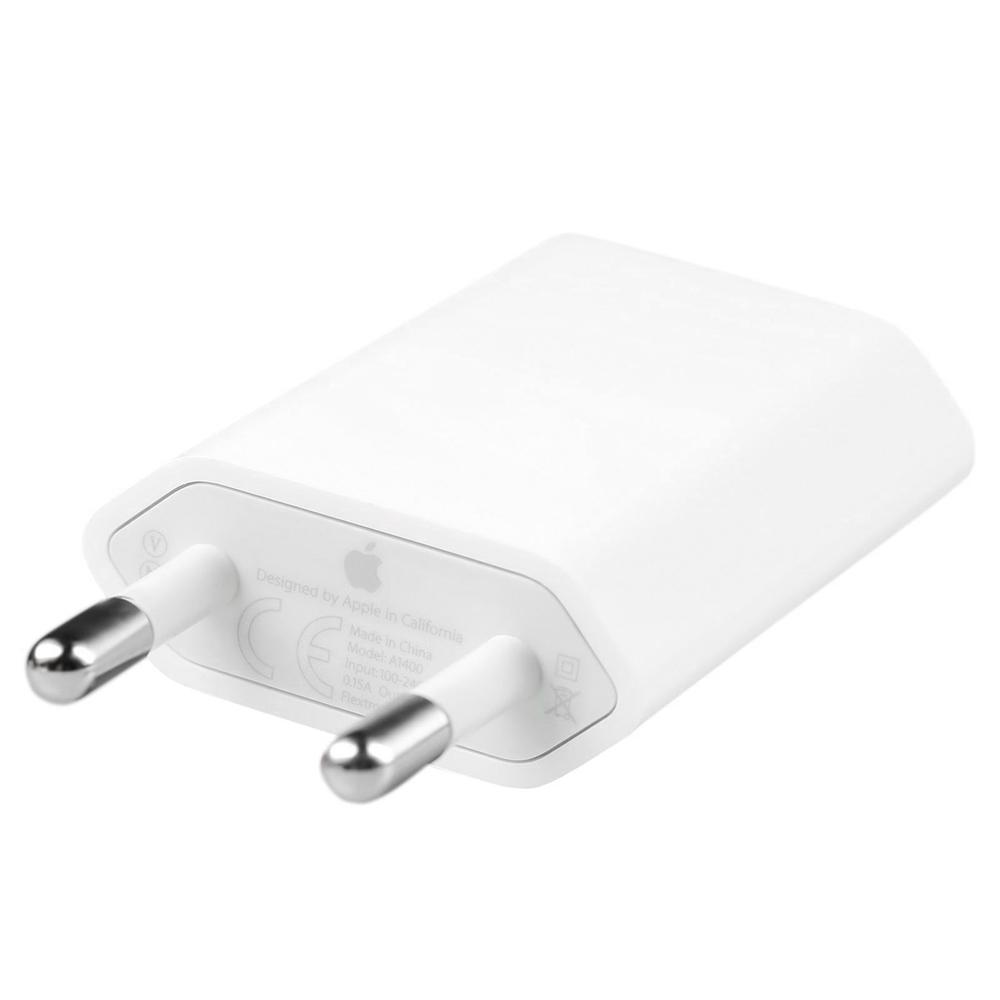Apple: (339, 533, 389, 602)
